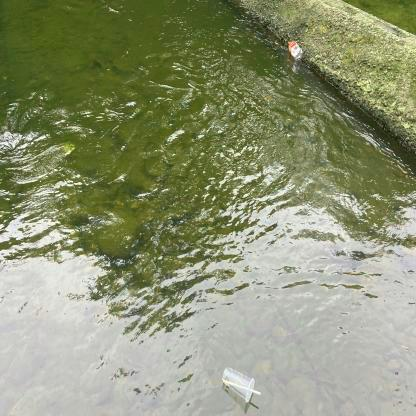Plastic: (221, 365, 263, 405), (286, 39, 304, 62)
